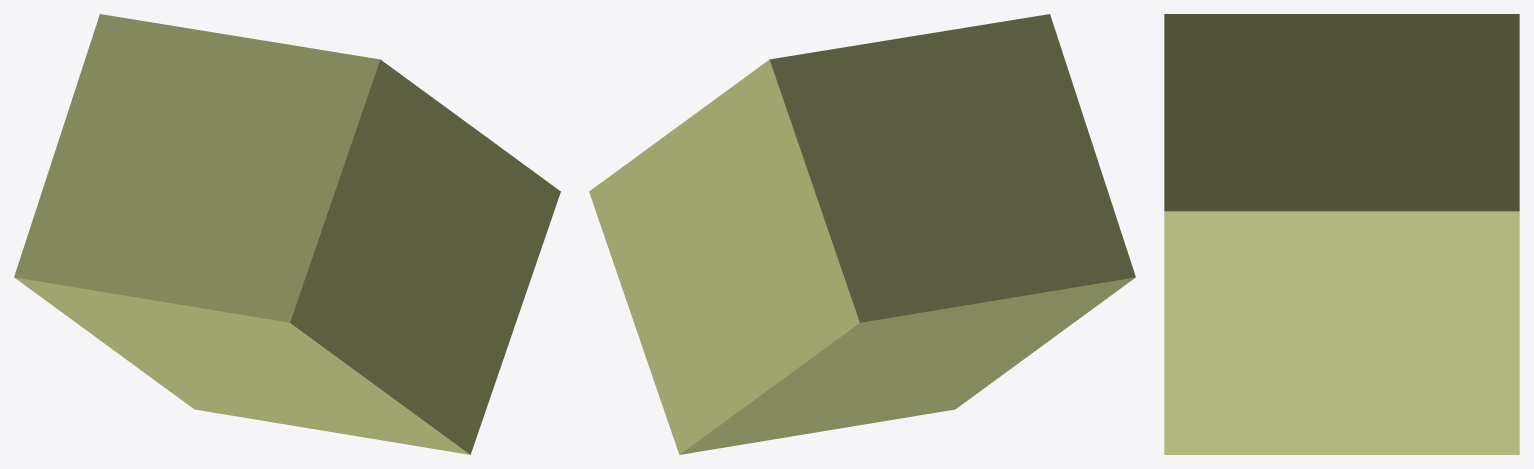
The picture shows the model from 3 angles, left to right: view 1: azimuth 30°, elevation 25°; view 2: azimuth 150°, elevation 25°; view 3: azimuth 270°, elevation 25°; orthographic projection.
Visible parts, largest first — view 1: 0_1_3_2_2_1_1_2_0_1_3; view 2: 0_1_3_2_2_1_1_2_0_1_3; view 3: 0_1_3_2_2_1_1_2_0_1_3.
Boxes of the visible parts, bbox=[...] form: 0_1_3_2_2_1_1_2_0_1_3: bbox=[14, 14, 560, 454]; 0_1_3_2_2_1_1_2_0_1_3: bbox=[589, 14, 1135, 454]; 0_1_3_2_2_1_1_2_0_1_3: bbox=[1164, 14, 1519, 454].
Size of the model in its own units: 7.03 by 6.51 by 6.
